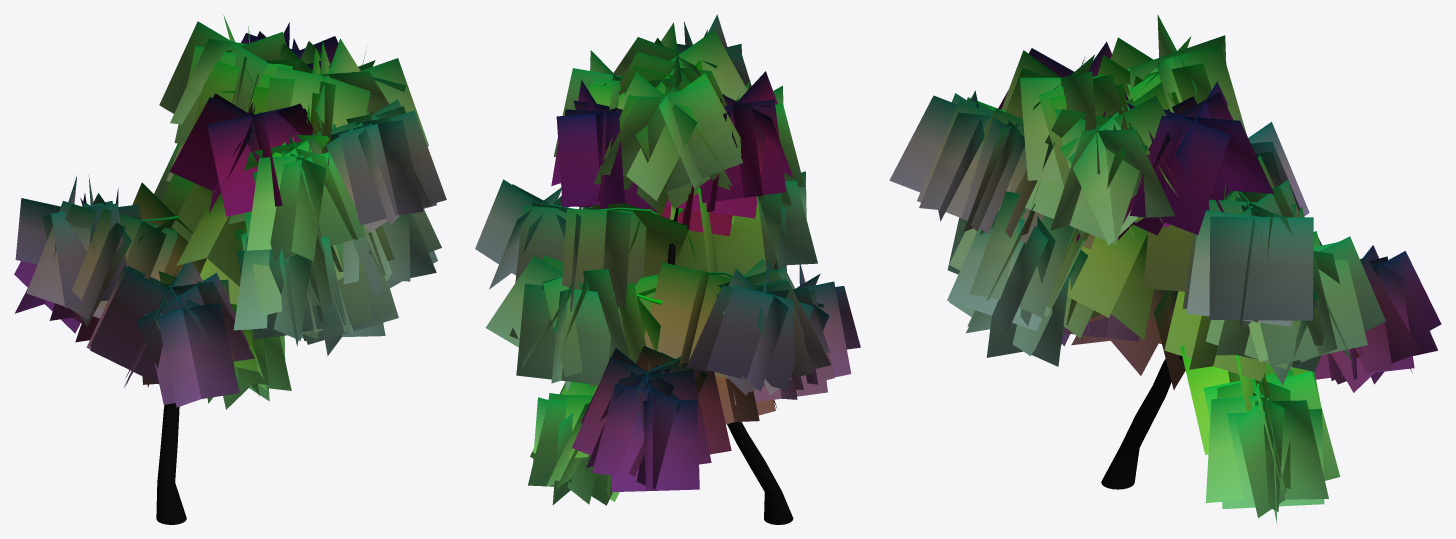
The model's file is URP_P13_Tree_4_LOD_1.fbx.
The picture shows the model from 3 angles, left to right: view 1: azimuth 30°, elevation 25°; view 2: azimuth 150°, elevation 25°; view 3: azimuth 270°, elevation 25°; orthographic projection. The views are drawn at different scales.
Parts seen in each view (by area): view 1: Tree_4_LOD_1; view 2: Tree_4_LOD_1; view 3: Tree_4_LOD_1.
Boxes of the visible parts, box(x1,y1,x2,y2) form: Tree_4_LOD_1: box(14, 15, 446, 524); Tree_4_LOD_1: box(475, 14, 860, 524); Tree_4_LOD_1: box(889, 14, 1441, 524).
Size of the model in its own units: 443 by 551 by 554.
